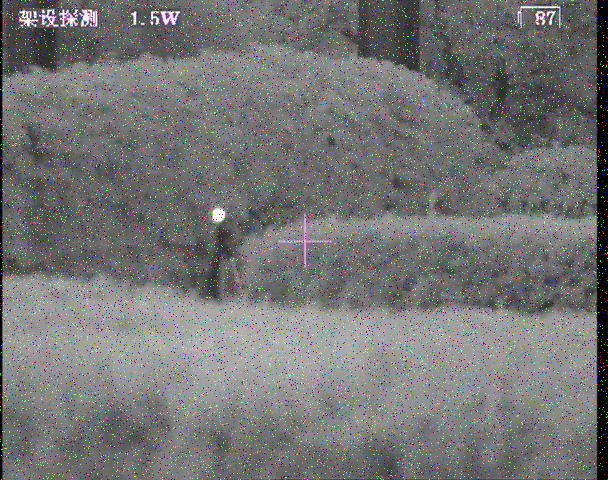my: (212, 207, 226, 223)
